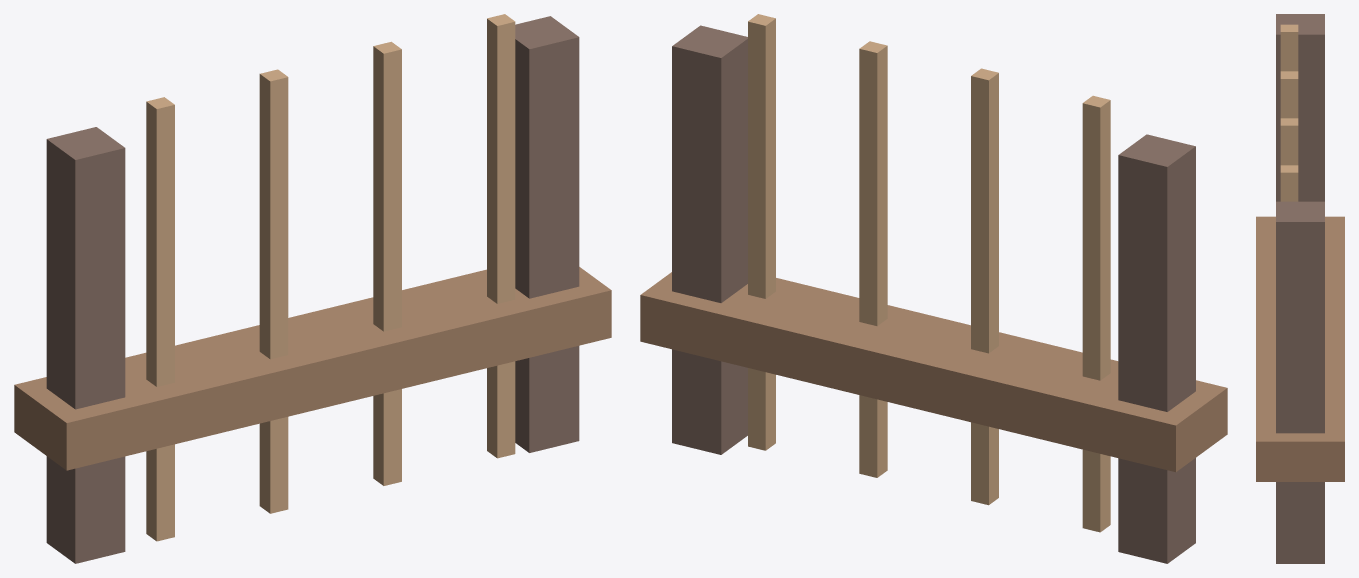
File: weapons_training_rack.glb
The picture shows the model from 3 angles, left to right: view 1: azimuth 30°, elevation 25°; view 2: azimuth 150°, elevation 25°; view 3: azimuth 270°, elevation 25°; orthographic projection. The views are drawn at different scales.
Parts seen in each view (by area): view 1: wood_dark, wood, wood_light; view 2: wood_dark, wood, wood_light; view 3: wood_dark, wood, wood_light.
Part boxes in pixels (bbox=[...]): wood_dark: bbox=[46, 16, 579, 563]; wood: bbox=[14, 267, 611, 470]; wood_light: bbox=[146, 14, 515, 541]; wood_dark: bbox=[672, 25, 1195, 563]; wood: bbox=[640, 272, 1227, 472]; wood_light: bbox=[748, 14, 1110, 532]; wood_dark: bbox=[1276, 14, 1324, 563]; wood: bbox=[1256, 216, 1344, 481]; wood_light: bbox=[1280, 24, 1298, 201].
Size of the model in its own units: 2.4 by 1.82 by 0.4.
